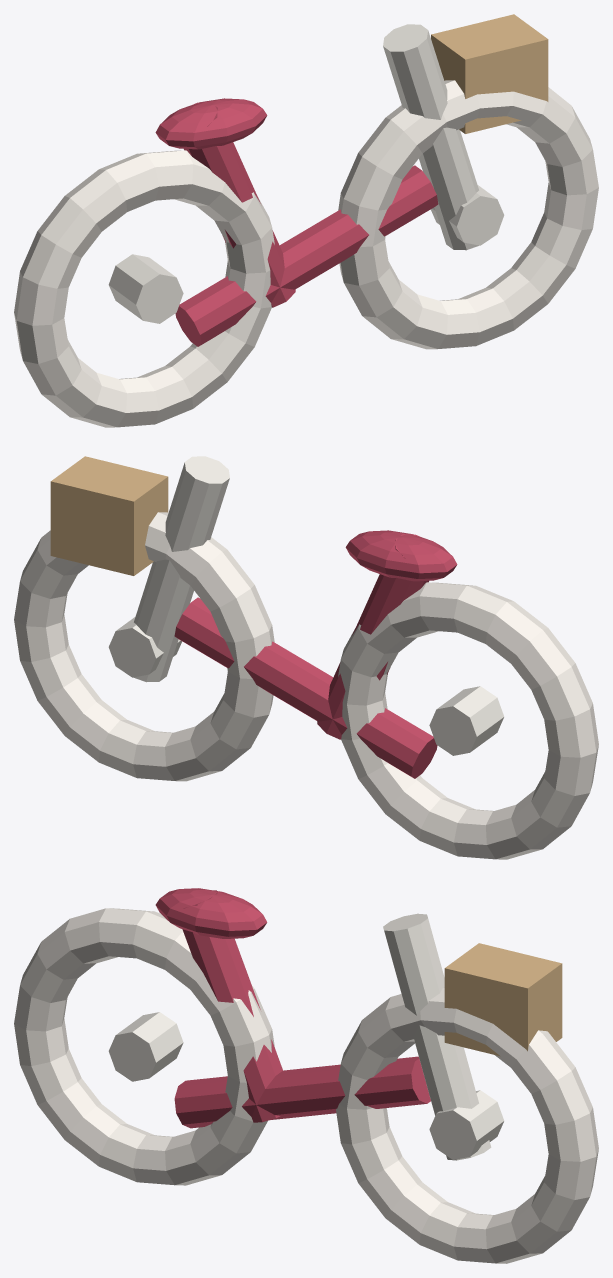
The model's file is charm-omafiets.glb.
3 views of the same model, one above another, from view 1: azimuth 30°, elevation 25°; view 2: azimuth 150°, elevation 25°; view 3: azimuth 330°, elevation 25° (orthographic).
Visible parts, largest first — view 1: charm_omafiets; view 2: charm_omafiets; view 3: charm_omafiets.
Boxes of the visible parts, x1,y1,x2,y2 form: charm_omafiets: (14,14,598,427); charm_omafiets: (14,456,598,859); charm_omafiets: (14,888,598,1263).
Bounding box in the file's own units: 0.00976 × 0.0053 × 0.00118.
